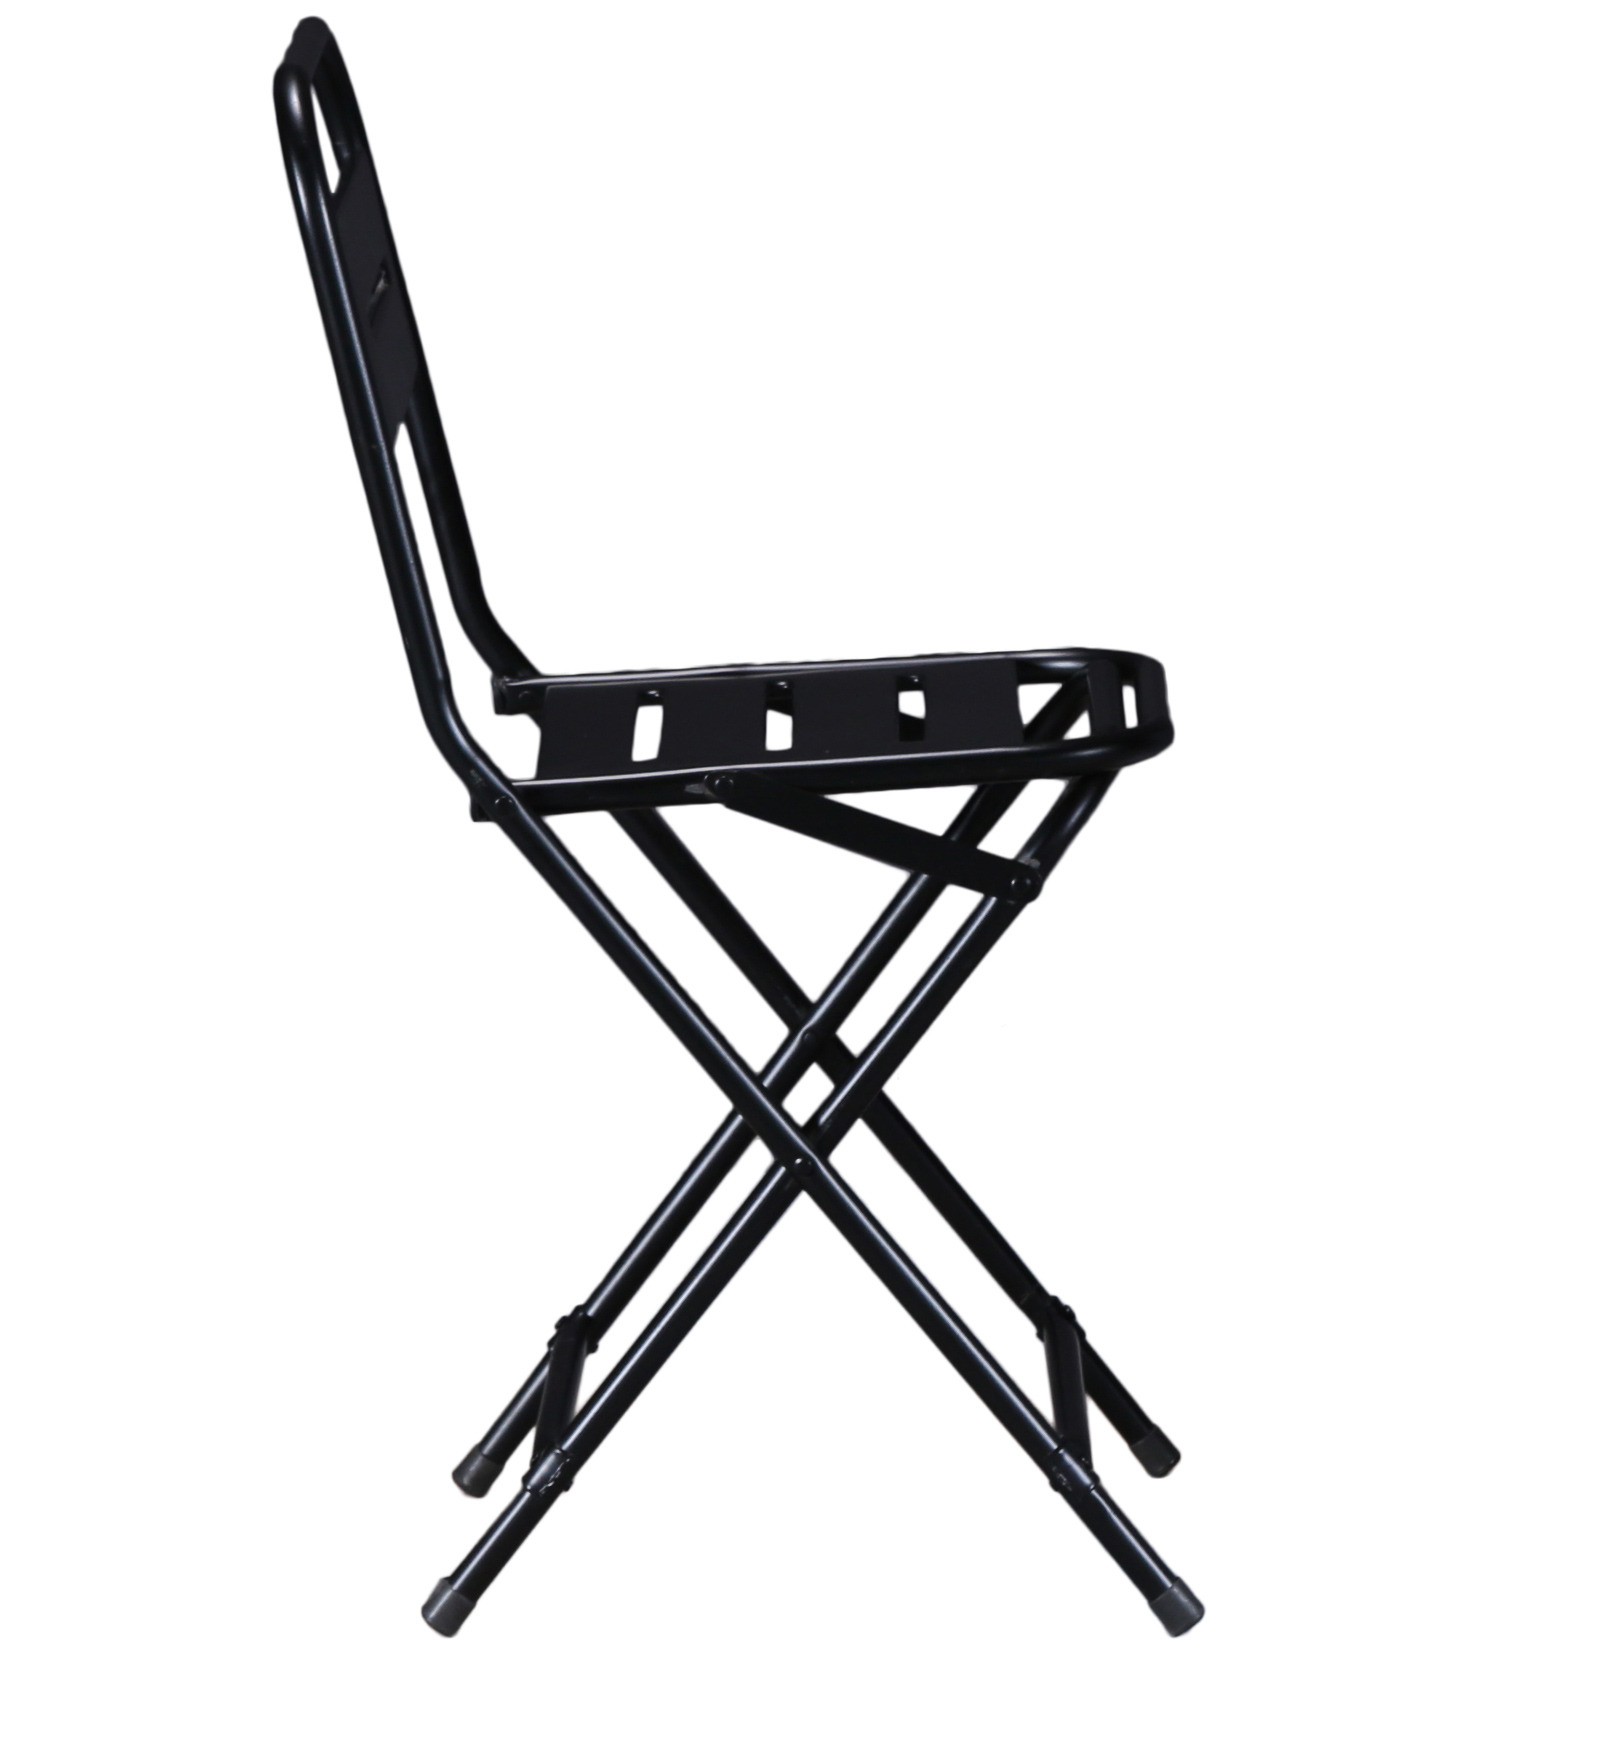Marandoo Grunge Black Outdoor Folding Chair by Bohemiana: (248, 9, 1248, 1637)
